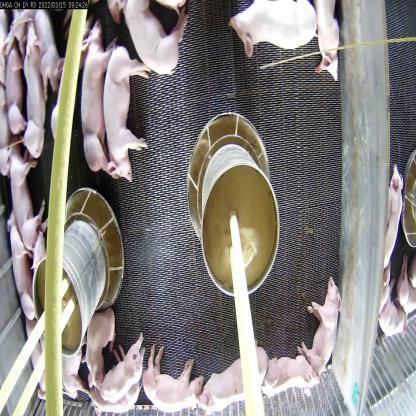Pig: (76, 18, 122, 186), (101, 42, 153, 188), (116, 0, 192, 79), (5, 129, 51, 254), (195, 342, 270, 415), (293, 268, 342, 378), (228, 0, 321, 57), (19, 16, 54, 161), (140, 334, 200, 415), (4, 204, 45, 320), (86, 322, 146, 401), (29, 9, 75, 101), (257, 345, 323, 408), (2, 28, 34, 141), (82, 300, 118, 388), (380, 157, 406, 276), (311, 0, 347, 84)
